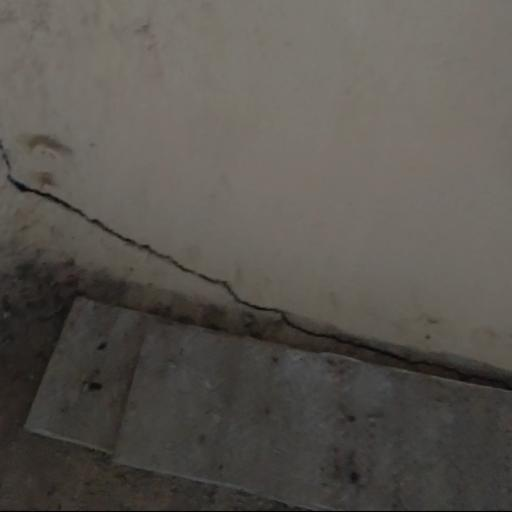major_crack: (0, 123, 512, 394)
